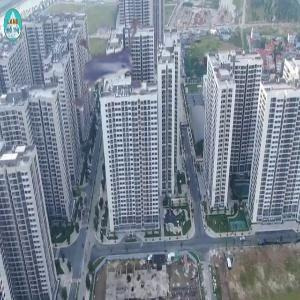drone: (46, 23, 165, 142)
